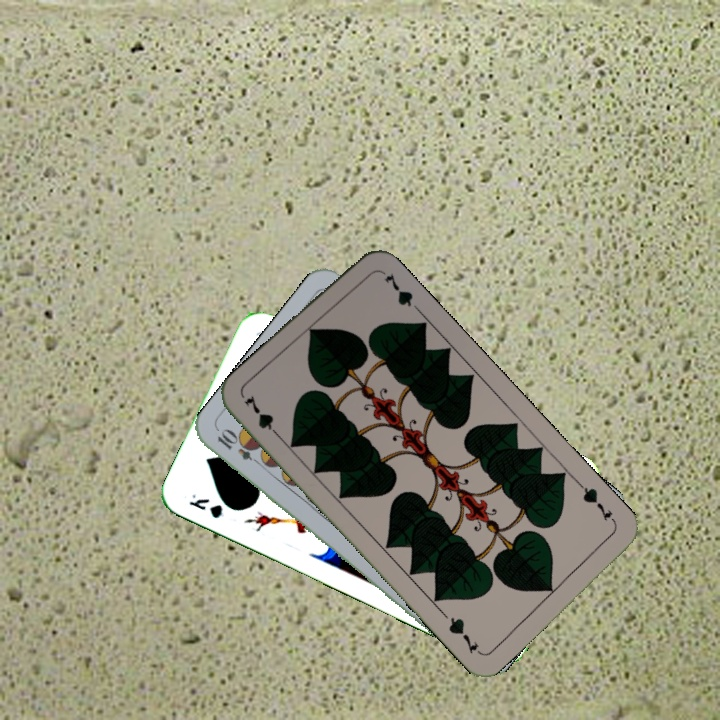E10: (213, 426, 266, 469)
G7: (239, 391, 285, 442), (575, 479, 619, 528)
GK: (185, 490, 226, 521)
